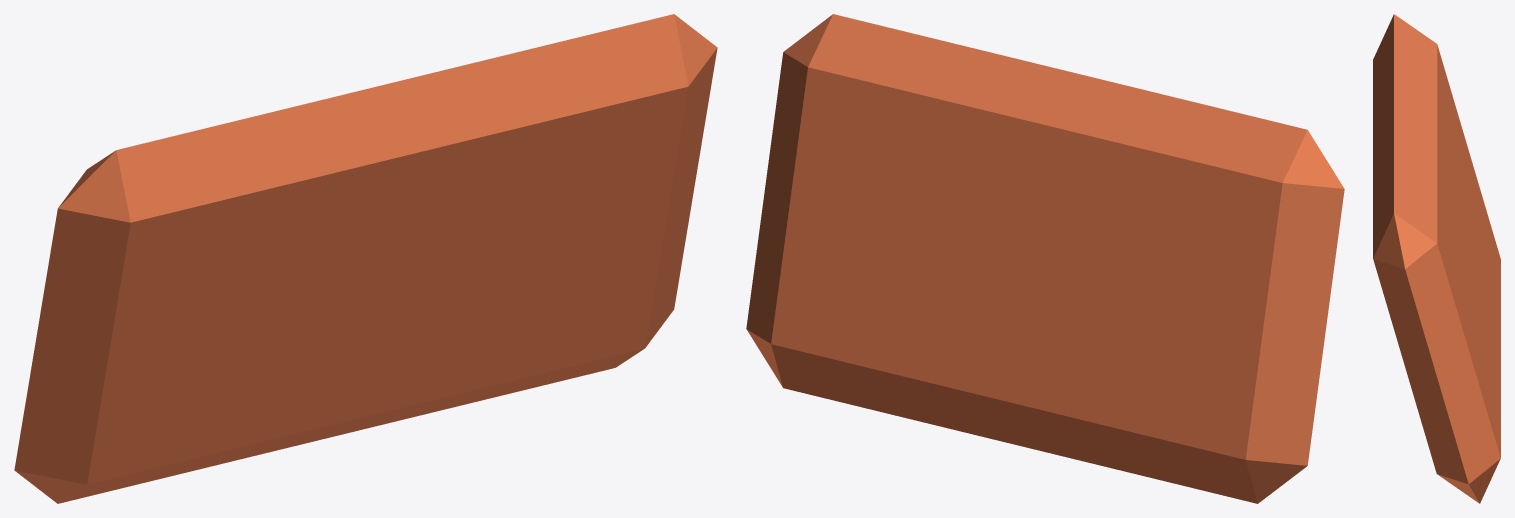
The model's file is pillowLong.glb.
3 views of the same model, side by side, from view 1: azimuth 30°, elevation 25°; view 2: azimuth 150°, elevation 25°; view 3: azimuth 270°, elevation 25° (orthographic). The views are drawn at different scales.
Bounding box in the file's own units: 3.87 × 2.22 × 0.8848.
